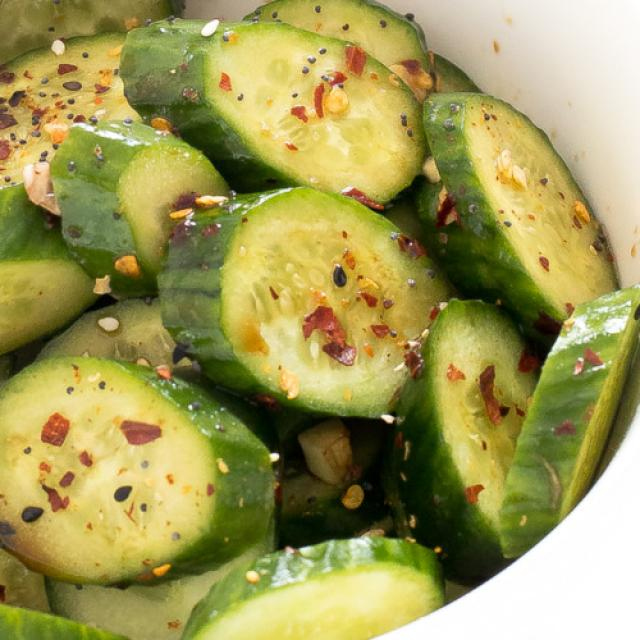Pickle: (159, 188, 454, 417), (0, 358, 275, 583), (120, 20, 426, 205), (415, 94, 619, 346), (388, 300, 539, 583), (500, 285, 639, 558), (50, 121, 228, 296), (181, 536, 444, 639)
